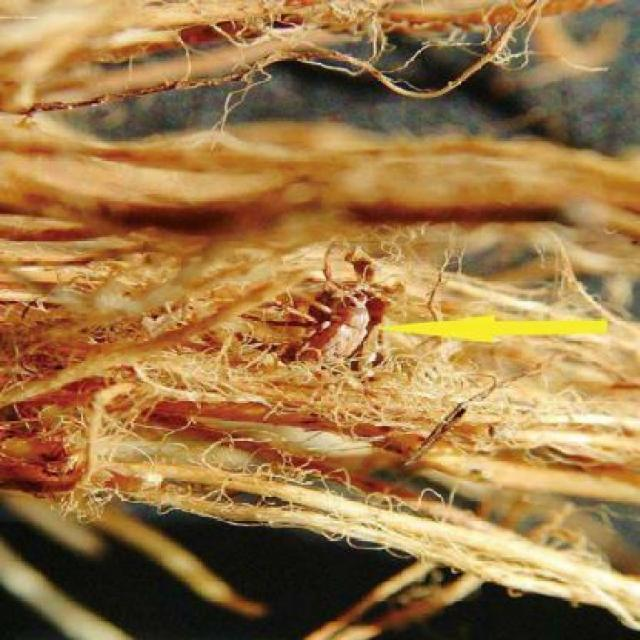rice-bug: (271, 272, 386, 381)
